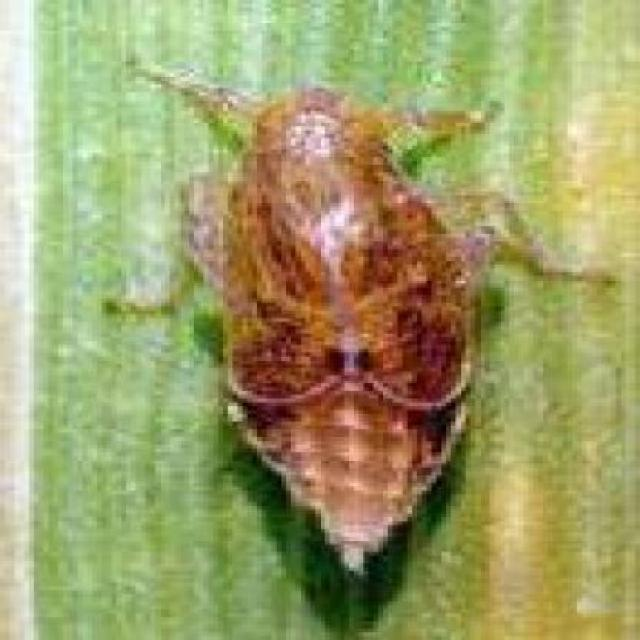brown-planthopper: (181, 75, 490, 579)
